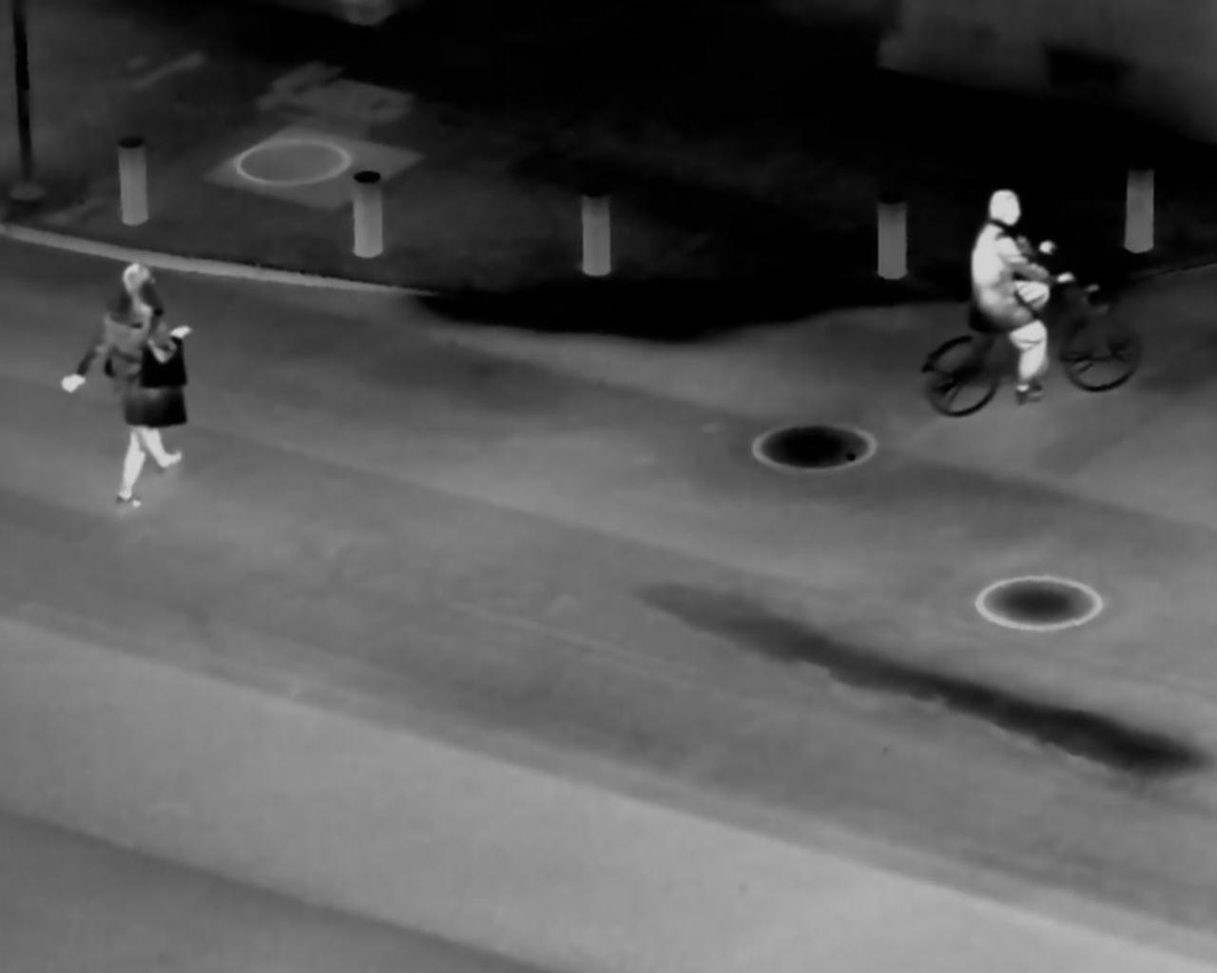person: (72, 245, 204, 524), (955, 177, 1064, 411)
